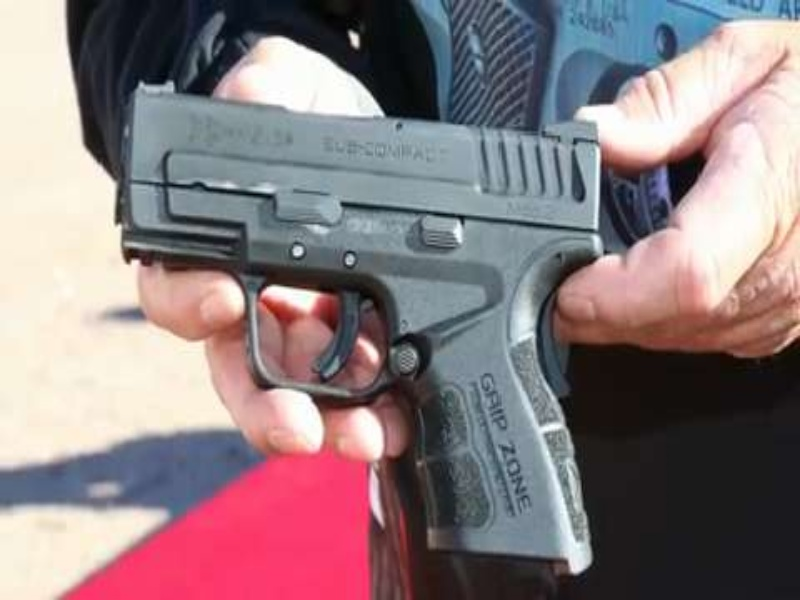gun: (117, 78, 610, 579)
